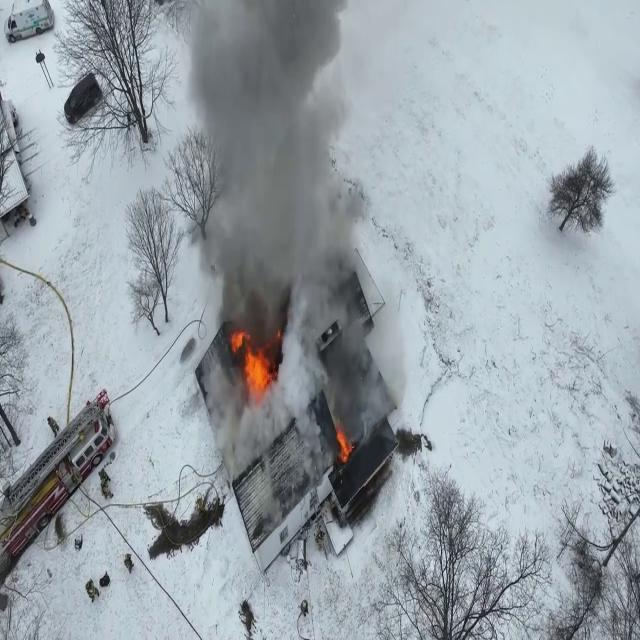Fire: (228, 324, 275, 400), (334, 414, 352, 464)
Smoke: (170, 0, 404, 428)
